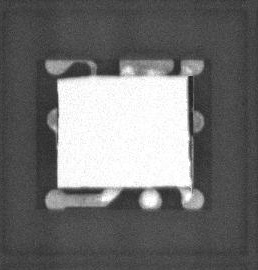DIE_BROKEN: (185, 74, 194, 178)
